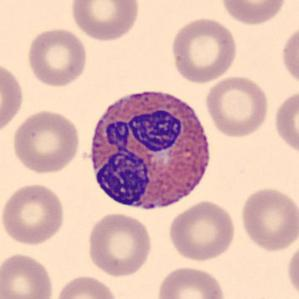Eosinophil: (84, 81, 217, 216)
RBC: (10, 107, 83, 176), (169, 15, 239, 84), (166, 198, 238, 263), (85, 211, 154, 278), (0, 181, 67, 247), (203, 74, 271, 139), (25, 25, 89, 89), (238, 185, 298, 253), (68, 0, 141, 43), (0, 251, 56, 299), (154, 264, 228, 299), (0, 58, 27, 138), (272, 87, 298, 158), (52, 272, 120, 299), (219, 0, 288, 26), (279, 22, 298, 90), (285, 236, 299, 299)
